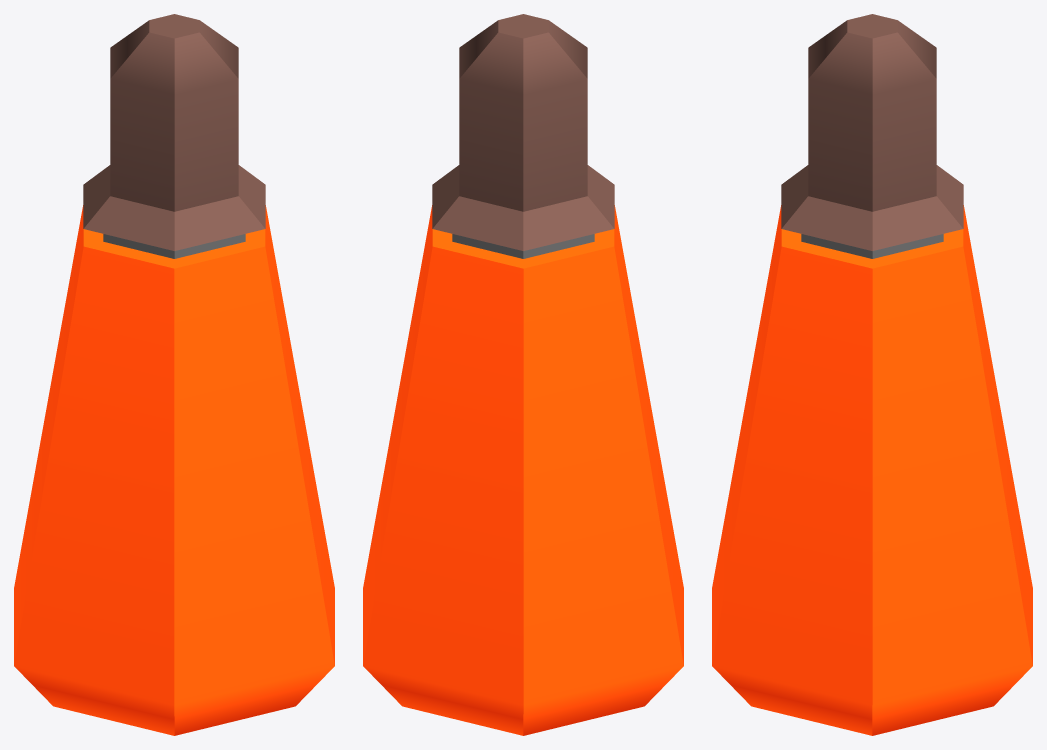
Rendered from EdisonLight.fbx.
The picture shows the model from 3 angles, left to right: view 1: azimuth 30°, elevation 25°; view 2: azimuth 150°, elevation 25°; view 3: azimuth 270°, elevation 25°; orthographic projection.
Visible parts, largest first — view 1: pCylinder7; view 2: pCylinder7; view 3: pCylinder7.
Boxes of the visible parts, x1,y1,x2,y2 form: pCylinder7: (14,14,334,735); pCylinder7: (363,14,683,735); pCylinder7: (712,14,1032,735).
Size of the model in its own units: 14.93 by 28.92 by 12.93.
